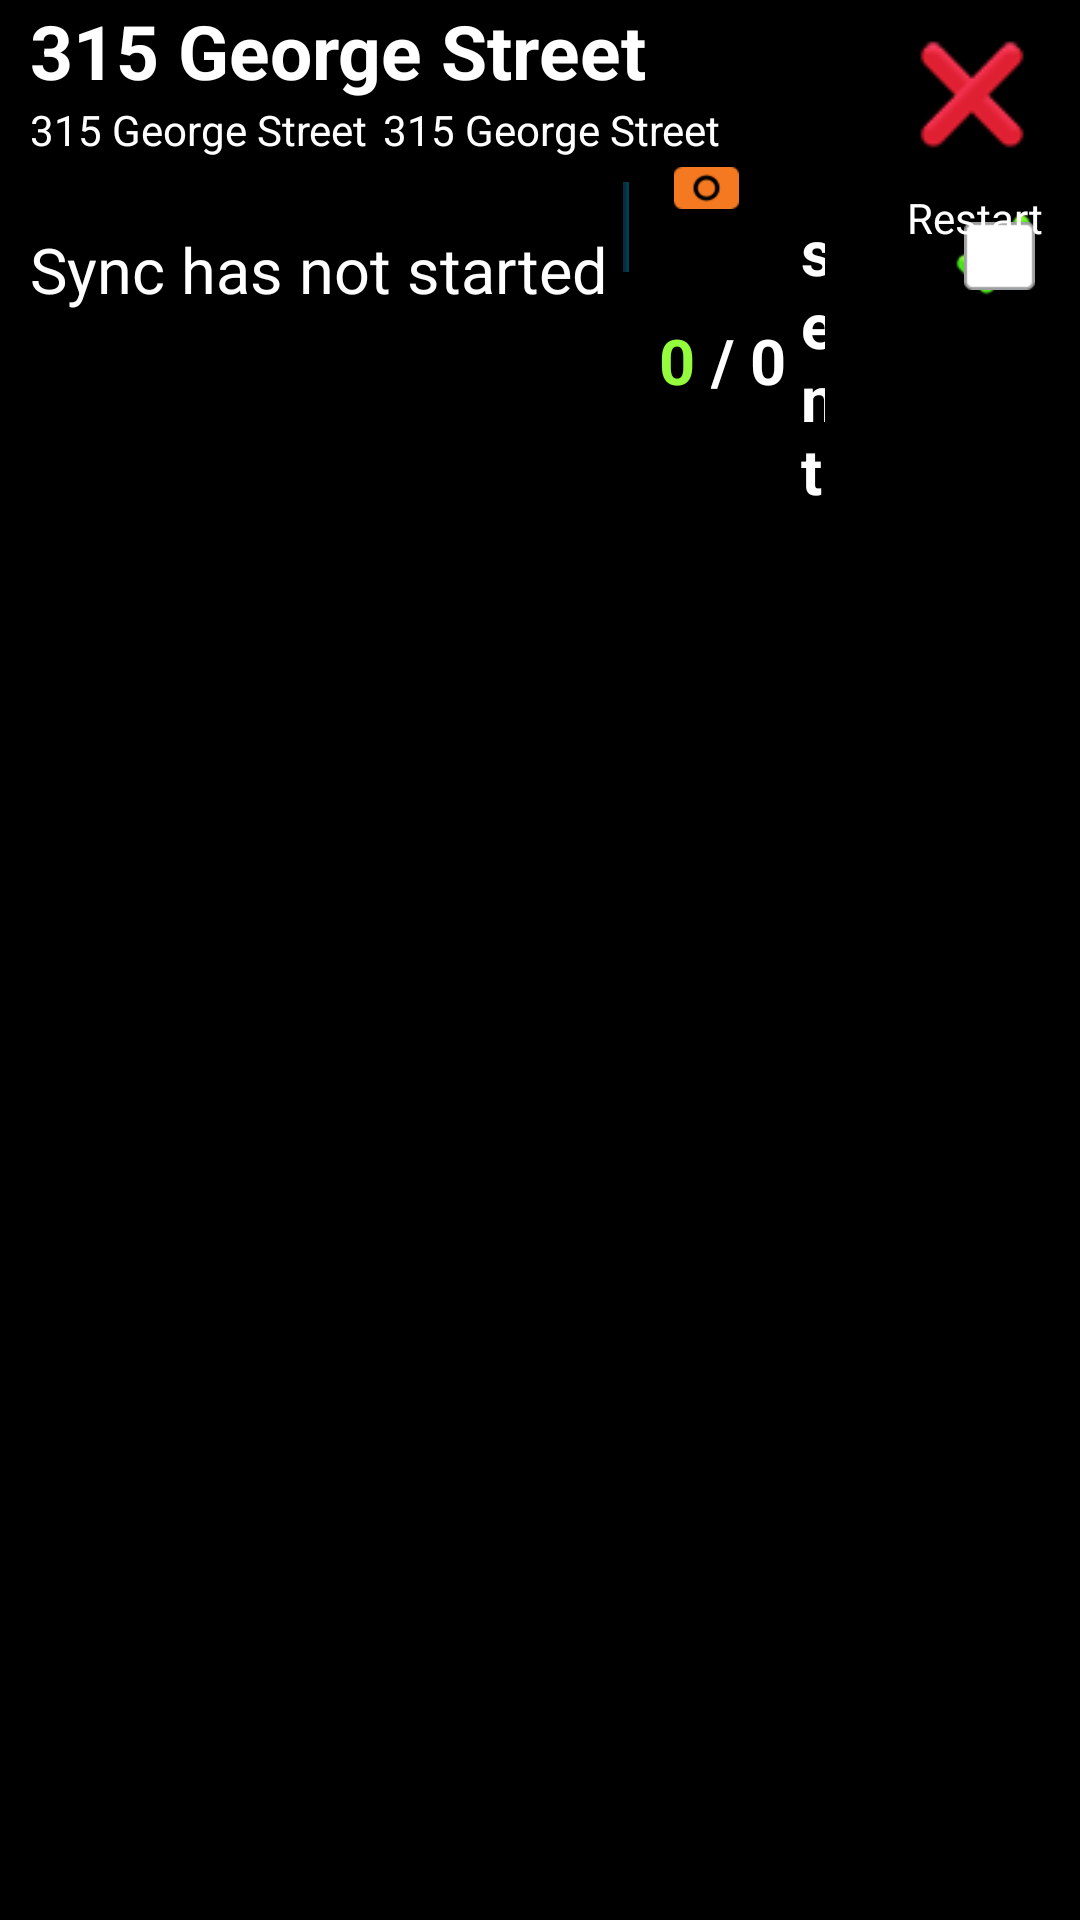

Screen size 1080×1920. Icon name, then its box in pixels as {"left": x1, "top": y1, "right": x2, "bottom": y2}:
im inspectionempty photo: {"left": 674, "top": 167, "right": 739, "bottom": 209}
im synching fail: {"left": 920, "top": 41, "right": 1024, "bottom": 148}
